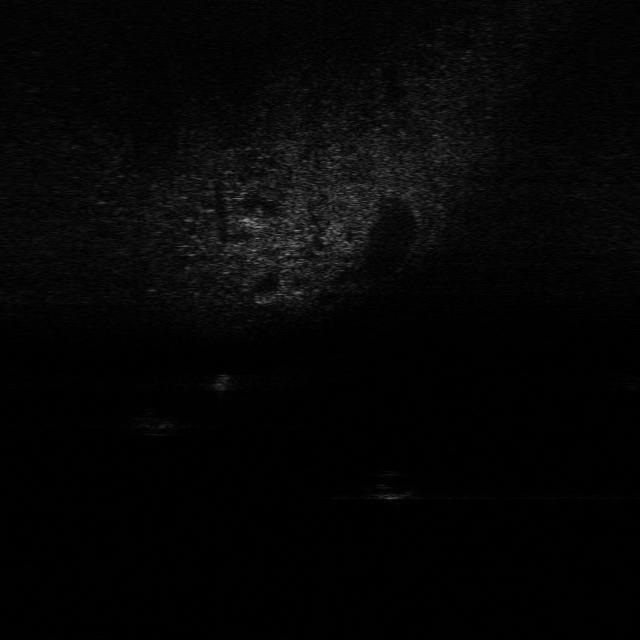ball: (357, 468, 423, 502)
circle cage: (129, 407, 187, 440)
cylinder: (213, 371, 232, 396)
